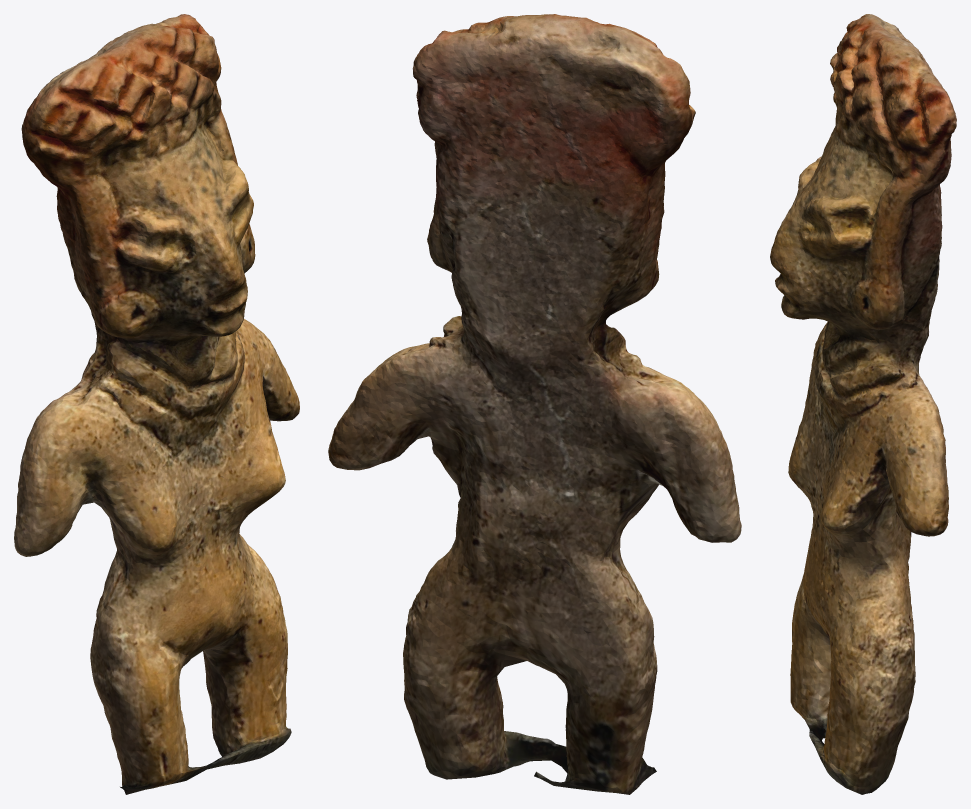
Rendered from Figurine2.glb.
3 views of the same model, side by side, from view 1: azimuth 30°, elevation 25°; view 2: azimuth 150°, elevation 25°; view 3: azimuth 270°, elevation 25° (orthographic). The views are drawn at different scales.
Size of the model in its own units: 0.4666 by 0.993 by 0.2403.
1 material, 1 textured.
